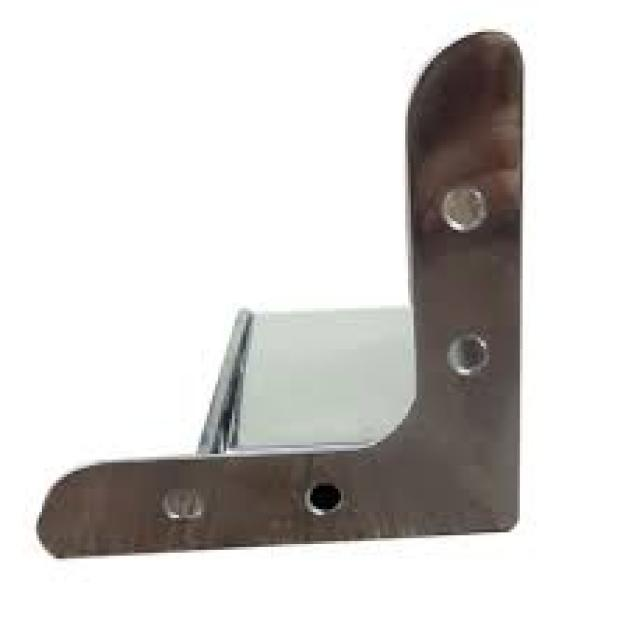holes: (436, 183, 486, 233), (444, 329, 489, 375), (159, 486, 204, 521), (302, 480, 341, 515)
